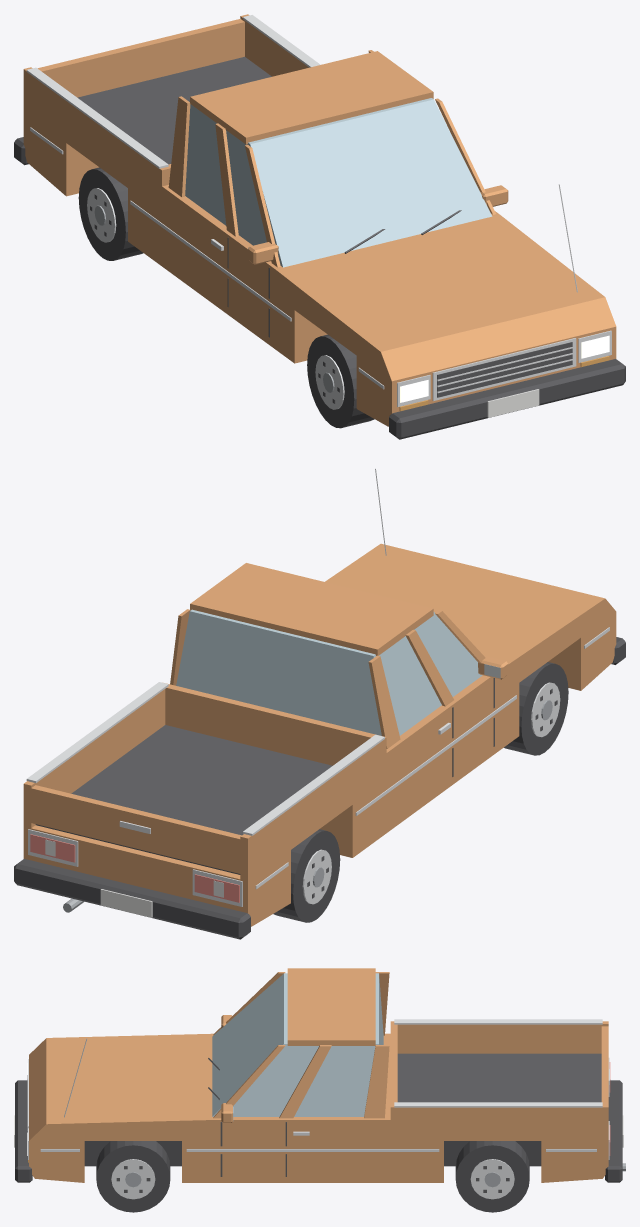
Rendered from car_pickup_o.glb.
3 renders of one model, top to bottom at view 1: azimuth 30°, elevation 25°; view 2: azimuth 150°, elevation 25°; view 3: azimuth 270°, elevation 25°, orthographic. The views are drawn at different scales.
Parts seen in each view (by area): view 1: car_pickup_o_car_o, car_pickup_o_glass, car_pickup_o_rubber, car_pickup_o_dark, car_pickup_o_chrome, car_pickup_o_lamp_glass, car_pickup_o_paint_w; view 2: car_pickup_o_car_o, car_pickup_o_glass, car_pickup_o_dark, car_pickup_o_rubber, car_pickup_o_chrome, car_pickup_o_neon_r, car_pickup_o_paint_w; view 3: car_pickup_o_car_o, car_pickup_o_glass, car_pickup_o_rubber, car_pickup_o_dark, car_pickup_o_chrome, car_pickup_o_steel.
Boxes of the visible parts, x1,y1,x2,y2 form: car_pickup_o_car_o: (23,14,616,426); car_pickup_o_glass: (185,98,492,267); car_pickup_o_rubber: (14,137,625,439); car_pickup_o_dark: (77,56,572,403); car_pickup_o_chrome: (26,15,611,409); car_pickup_o_lamp_glass: (400,335,609,402); car_pickup_o_paint_w: (487,389,539,417); car_pickup_o_car_o: (23,543,616,926); car_pickup_o_glass: (176,609,482,735); car_pickup_o_dark: (35,678,557,898); car_pickup_o_rubber: (14,637,625,939); car_pickup_o_chrome: (26,468,609,906); car_pickup_o_neon_r: (30,834,239,902); car_pickup_o_paint_w: (45,839,223,917); car_pickup_o_car_o: (29,968,608,1182); car_pickup_o_glass: (212,973,383,1116); car_pickup_o_rubber: (15,1080,622,1212); car_pickup_o_dark: (27,1053,601,1192); car_pickup_o_chrome: (27,1019,609,1199); car_pickup_o_steel: (125,1163,625,1187).
Size of the model in its own units: 2 by 1.6 by 5.28.
